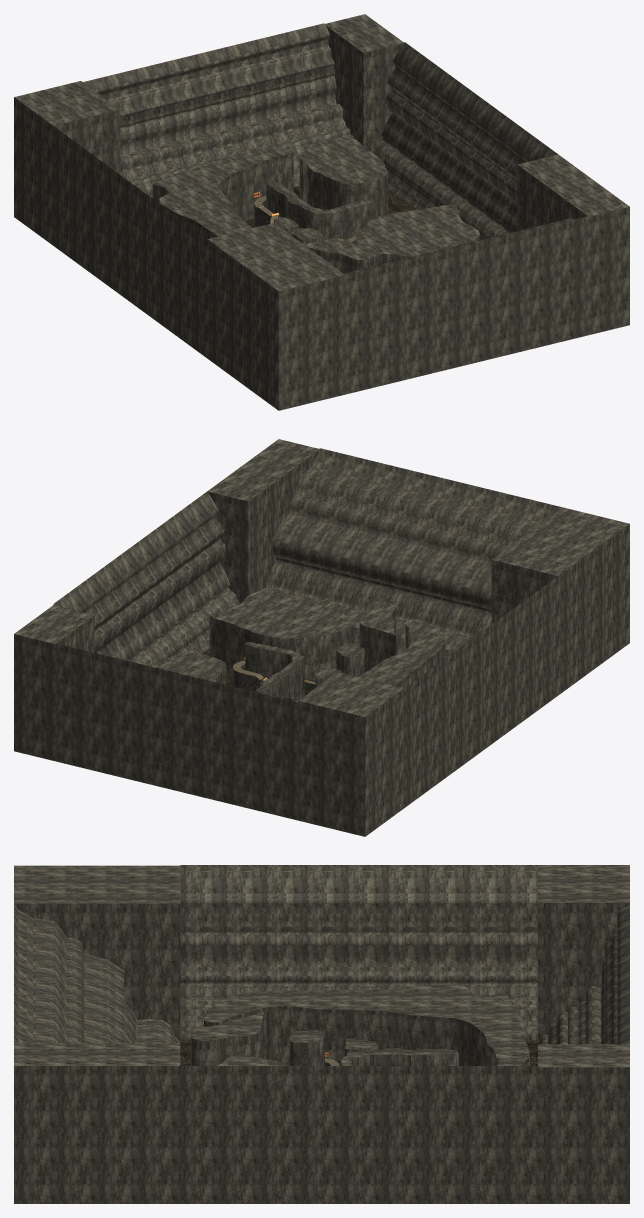
The picture shows the model from 3 angles, top to bottom: view 1: azimuth 30°, elevation 25°; view 2: azimuth 150°, elevation 25°; view 3: azimuth 270°, elevation 25°; orthographic projection. The views are drawn at different scales.
Parts seen in each view (by area): view 1: Untitled-SKP--TR_iwa01; view 2: Untitled-SKP--TR_iwa01, Untitled-SKP--TR_caveWall01; view 3: Untitled-SKP--TR_iwa01, Untitled-SKP--TR_RockGara01.
Part boxes in pixels (<box>): Untitled-SKP--TR_iwa01: <box>14,14,629,410</box>; Untitled-SKP--TR_iwa01: <box>14,439,629,836</box>; Untitled-SKP--TR_caveWall01: <box>233,664,315,701</box>; Untitled-SKP--TR_iwa01: <box>14,865,629,1203</box>; Untitled-SKP--TR_RockGara01: <box>180,1040,537,1065</box>.
Size of the model in its own units: 170671 by 57566 by 222890.
Materials: 10 (10 with a texture image).
